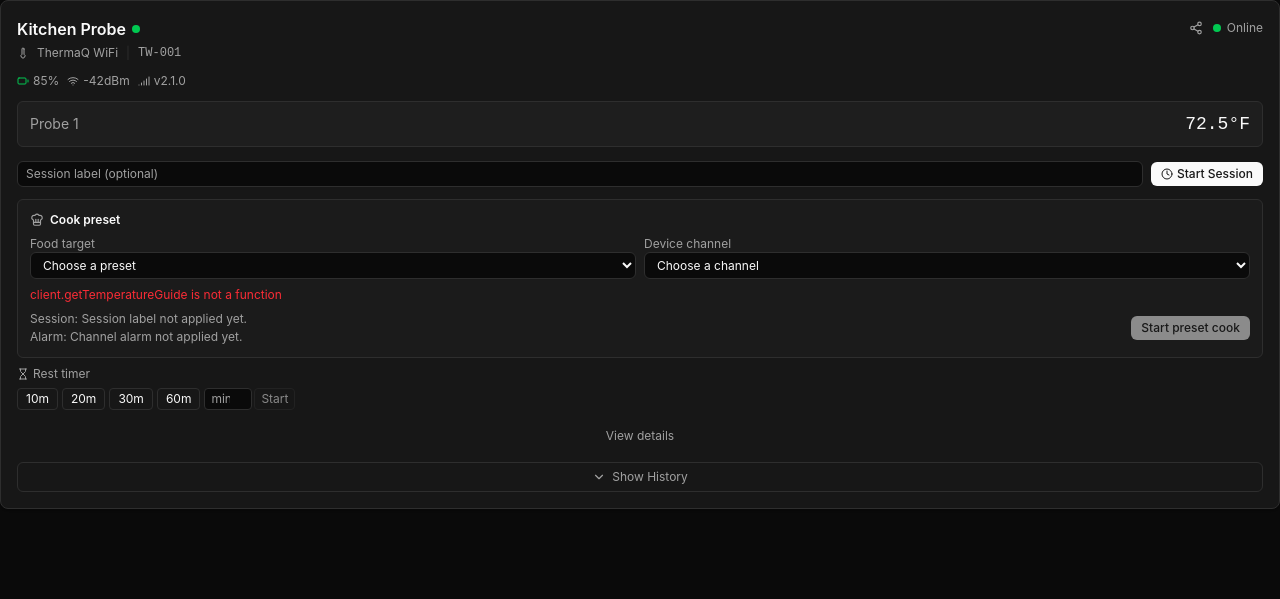
Test: DeviceCard › Show History button toggles chart visibility
The image size is (1280, 599).
Click the button "Show History". click: coordinates (640, 477)
box: [17, 462, 1263, 492]
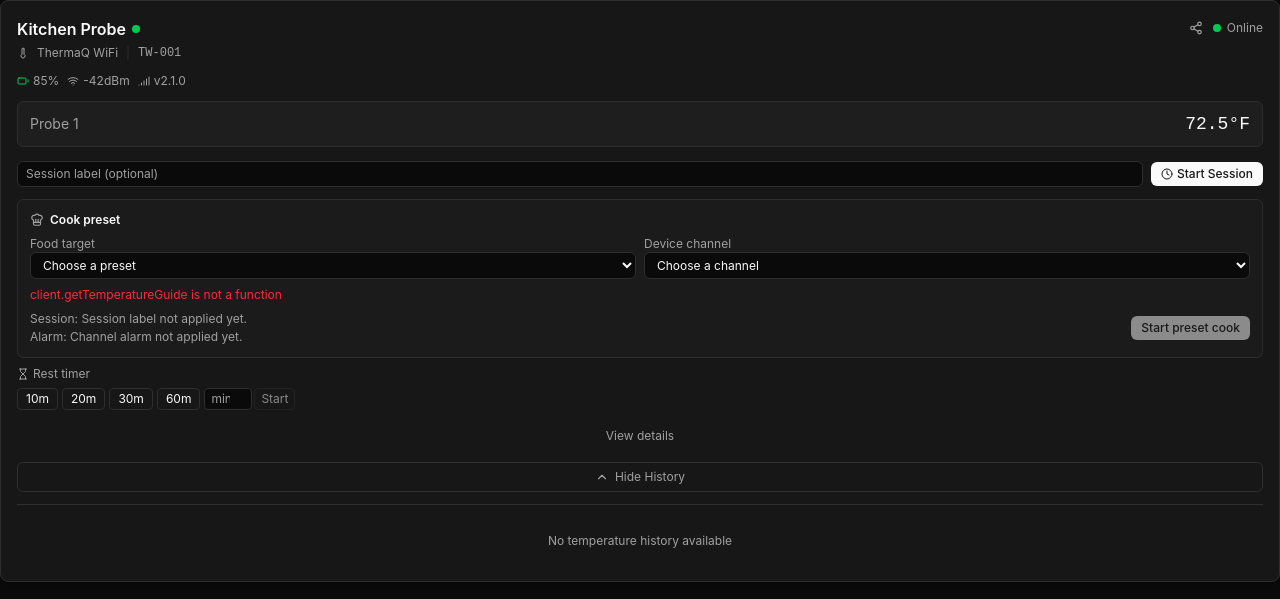
Result: the button "Hide History" is shown
Click the button "Hide History". click: coordinates (640, 477)
box: [17, 462, 1263, 492]
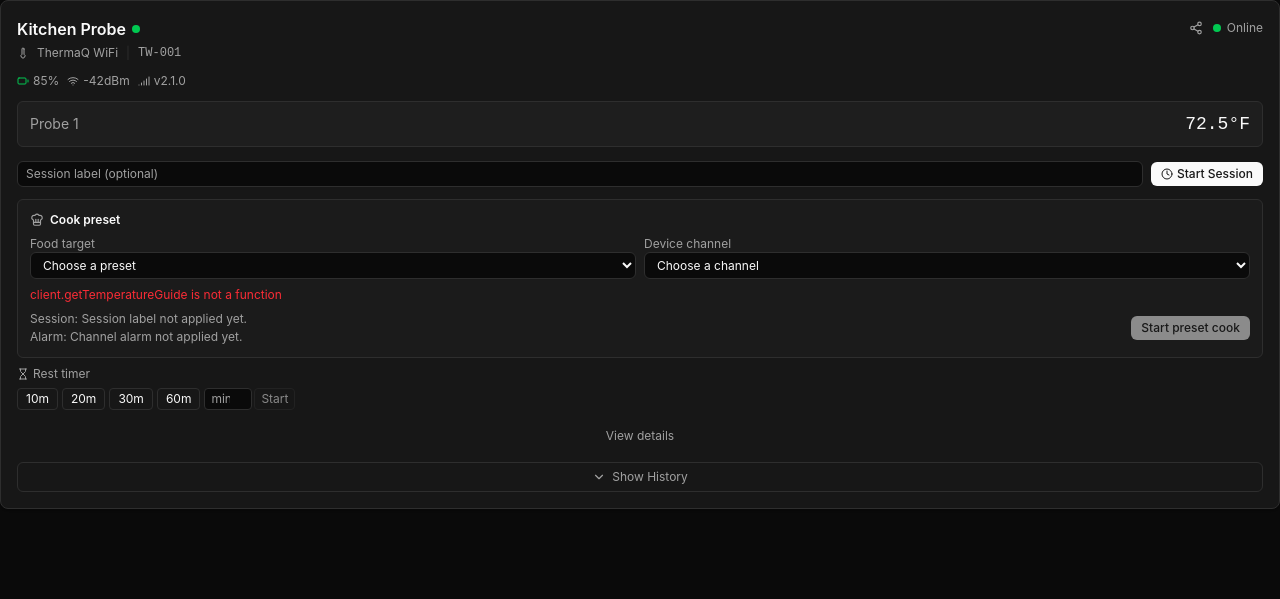
Result: the button "Show History" is shown at [17, 462, 1263, 492]
